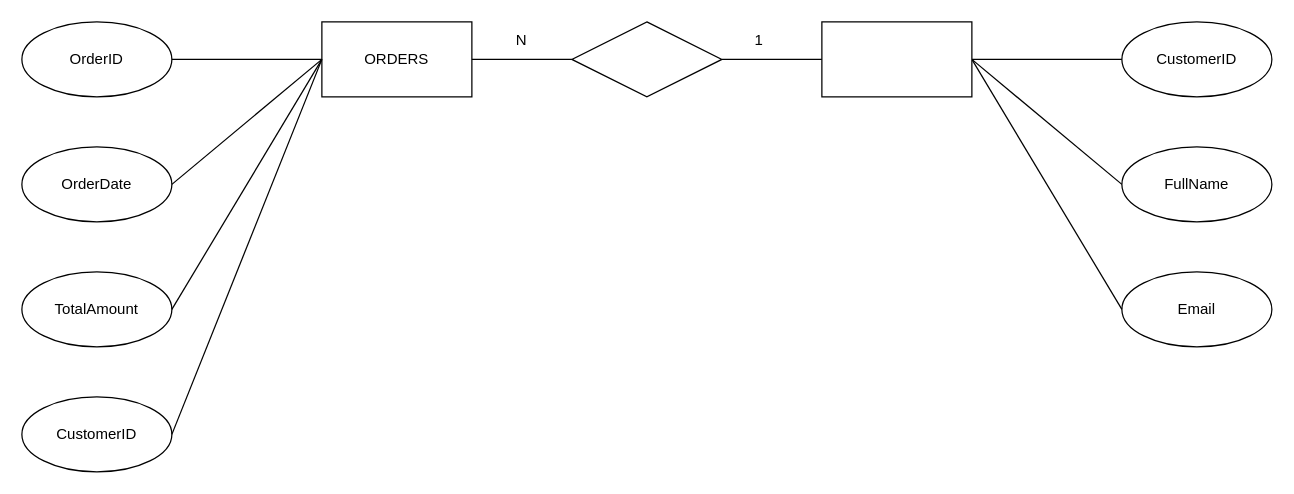
The diagram is 1294 pixels wide and 494 high, and some of its shapes have lost their labels. The shapes that lost their labels are listed below. From the top down, each one's centre as x and y in pixels, then its label:
At (x=646, y=59): "genre".
At (x=896, y=59): "CUSTOMERS".
